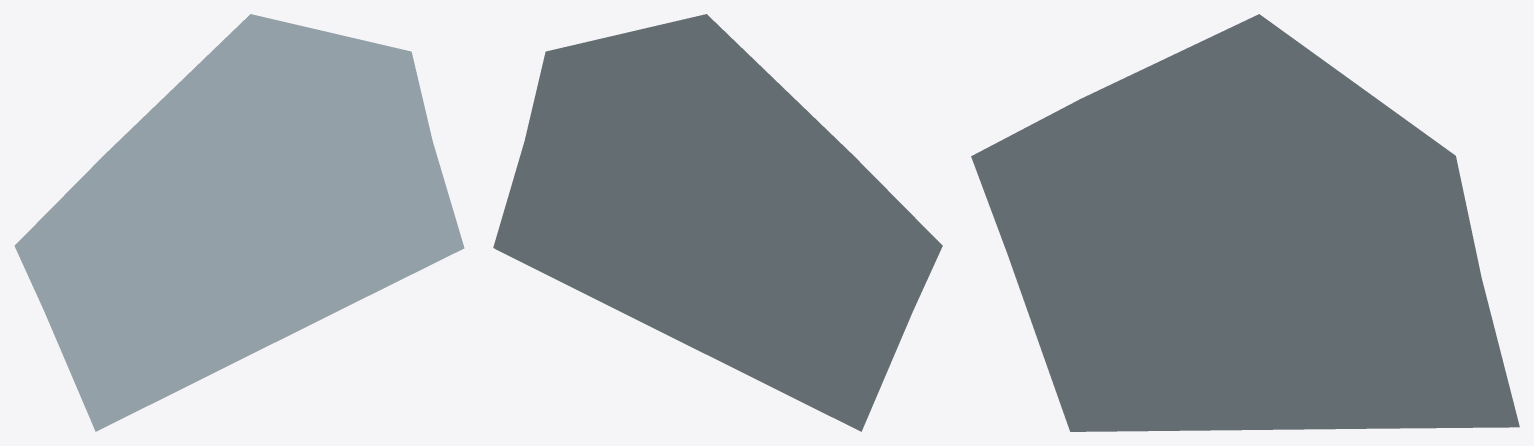
3 renders of one model, left to right at view 1: azimuth 30°, elevation 25°; view 2: azimuth 150°, elevation 25°; view 3: azimuth 330°, elevation 25°, orthographic. The views are drawn at different scales.
Parts seen in each view (by area): view 1: pCube26; view 2: pCube26; view 3: pCube26.
Boxes of the visible parts, bbox=[...] form: pCube26: bbox=[14, 14, 464, 431]; pCube26: bbox=[493, 14, 942, 431]; pCube26: bbox=[971, 14, 1519, 431].
Bounding box in the file's own units: 47.09 × 38.02 × 0.0421.
